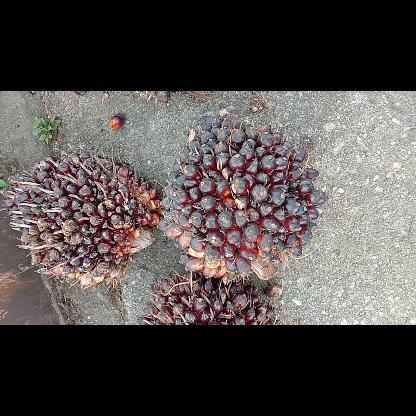TBS mentah: (157, 115, 326, 284), (2, 150, 160, 288), (138, 272, 280, 324)
